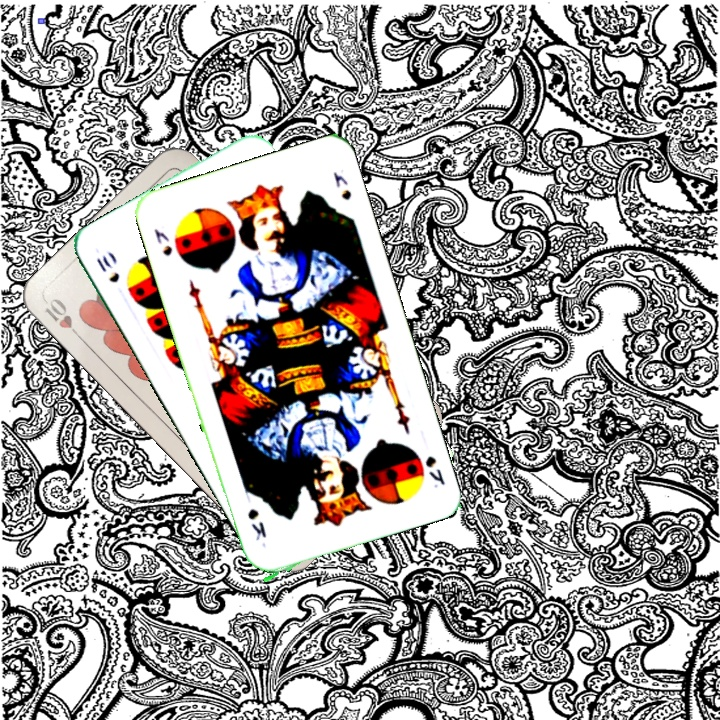H10: (40, 294, 86, 344)
S10: (92, 247, 122, 286)
SK: (421, 452, 448, 491), (150, 224, 175, 259)
